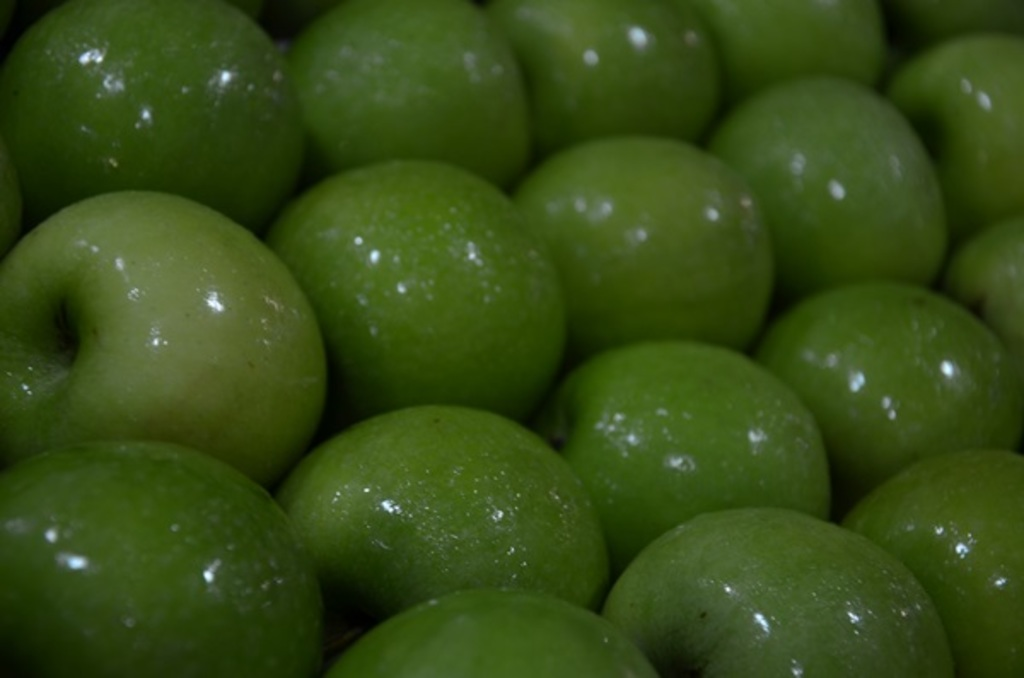Apple: (5, 0, 1022, 676)
